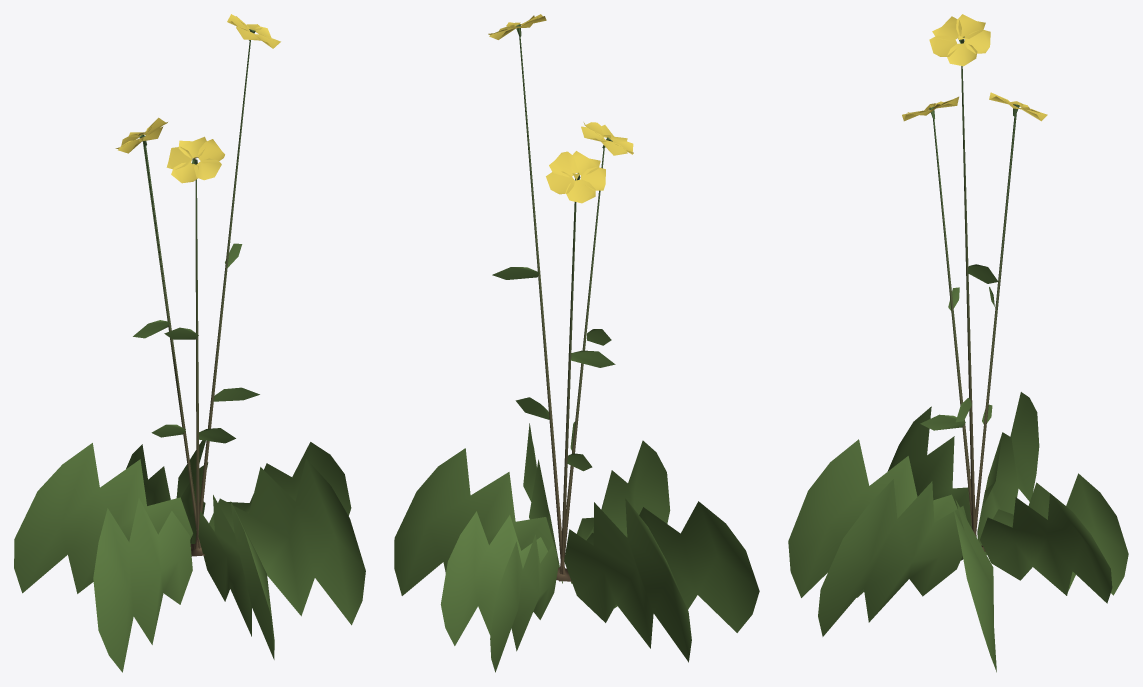
Rendered from Buttercup_lod2.glb.
The picture shows the model from 3 angles, left to right: view 1: azimuth 30°, elevation 25°; view 2: azimuth 150°, elevation 25°; view 3: azimuth 270°, elevation 25°; orthographic projection. The views are drawn at different scales.
Parts seen in each view (by area): view 1: Plant_LOD2; view 2: Plant_LOD2; view 3: Plant_LOD2.
Part boxes in pixels (box(x1,y1,x2,y2)): Plant_LOD2: box(14, 14, 365, 672); Plant_LOD2: box(394, 14, 759, 672); Plant_LOD2: box(788, 14, 1128, 672).
Size of the model in its own units: 0.269 by 0.4829 by 0.2428.
